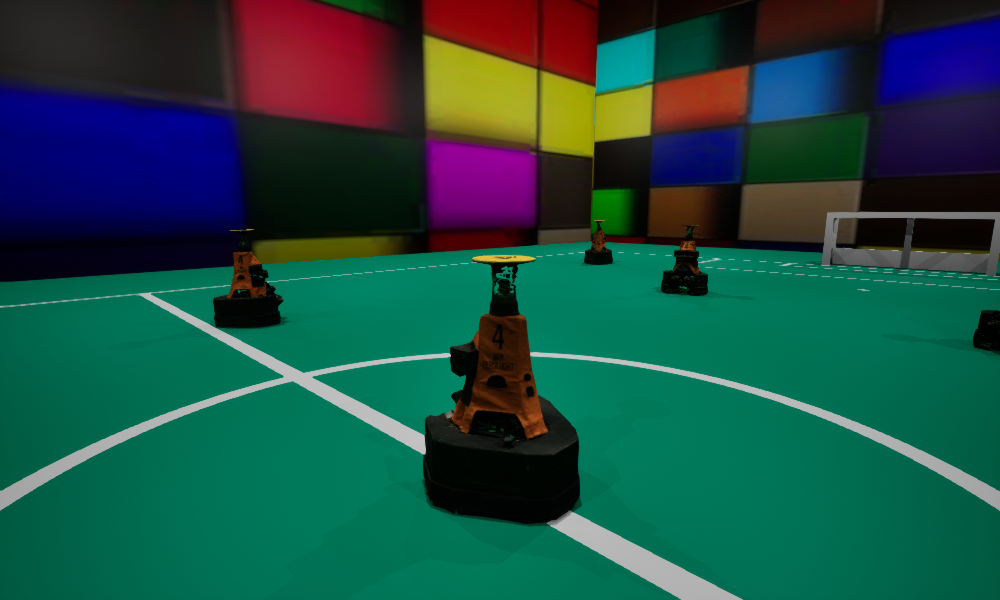0 orange robot TechUnited: (423, 255, 579, 523), (213, 229, 283, 327), (661, 225, 707, 294), (584, 220, 612, 264), (973, 310, 999, 350)
